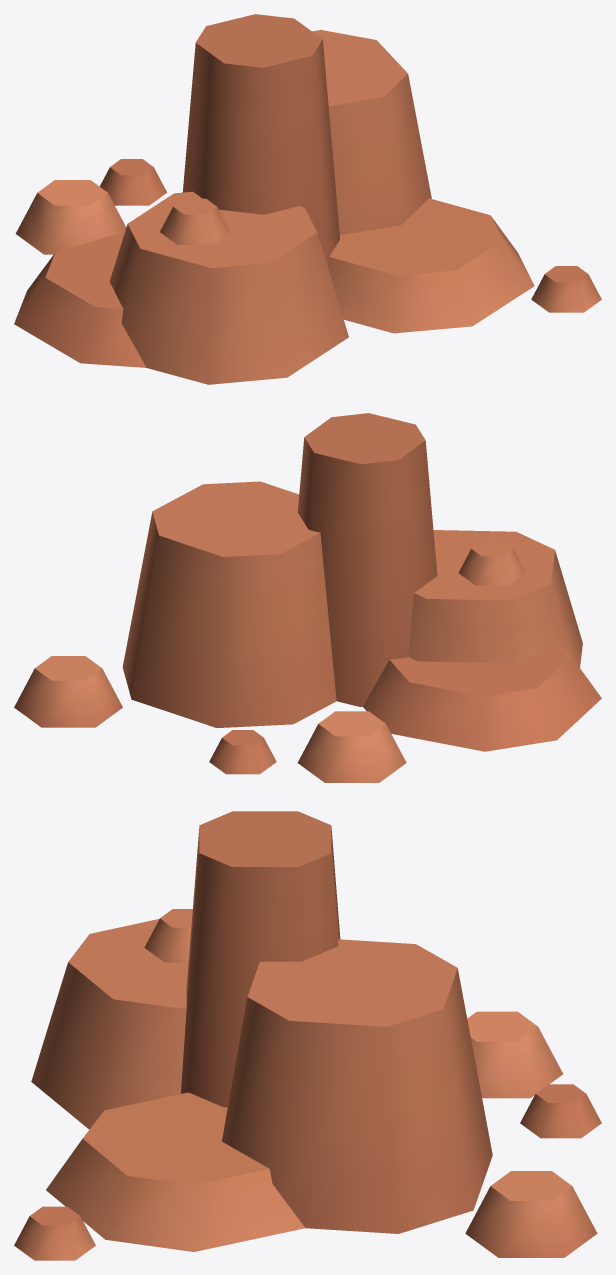
File: prop_km_stones.glb
The picture shows the model from 3 angles, top to bottom: view 1: azimuth 30°, elevation 25°; view 2: azimuth 150°, elevation 25°; view 3: azimuth 270°, elevation 25°; orthographic projection. The views are drawn at different scales.
Parts seen in each view (by area): view 1: stones; view 2: stones; view 3: stones.
Boxes of the visible parts, box(x1,y1,x2,y2) form: stones: box(14, 14, 601, 384); stones: box(14, 413, 601, 782); stones: box(14, 811, 601, 1260).
Size of the model in its own units: 0.904 by 0.4539 by 0.8521.
1 material, 1 textured.
